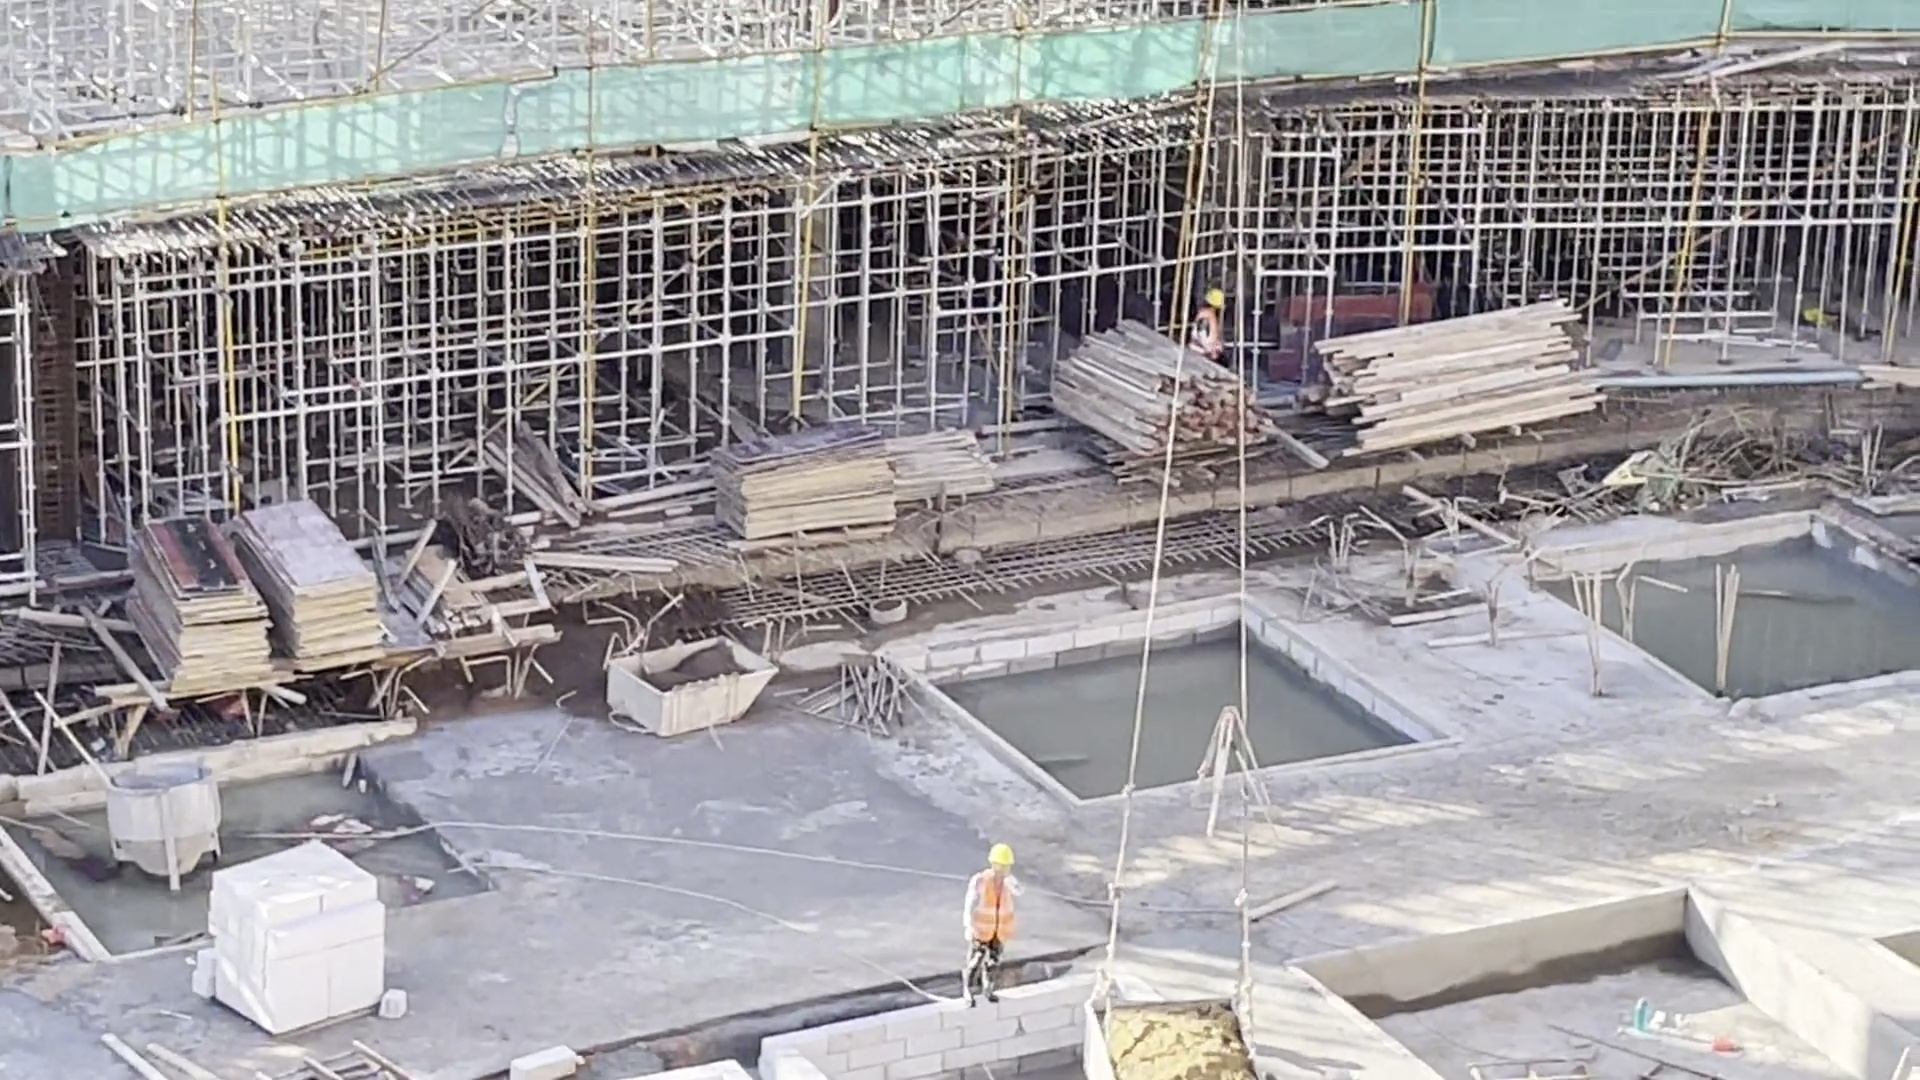board: (119, 512, 278, 704), (238, 497, 388, 679), (708, 419, 908, 548)
brick: (183, 834, 404, 1039)
helmet: (982, 842, 1021, 867), (1202, 287, 1225, 311)
hopper: (600, 632, 781, 743), (103, 760, 225, 897)
person: (954, 839, 1026, 1009), (1187, 286, 1228, 362)
vest: (970, 867, 1015, 945), (1191, 308, 1225, 358)
wood: (1328, 295, 1608, 457), (1045, 316, 1273, 467)
